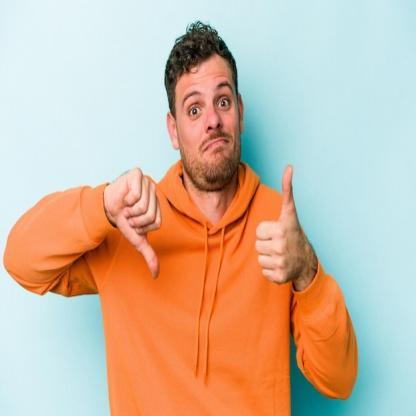thumb_down: (107, 164, 164, 282)
thumb_up: (252, 164, 310, 286)
